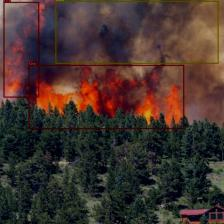fire: (28, 65, 184, 129), (3, 2, 39, 97)
smoke: (56, 0, 218, 64)
